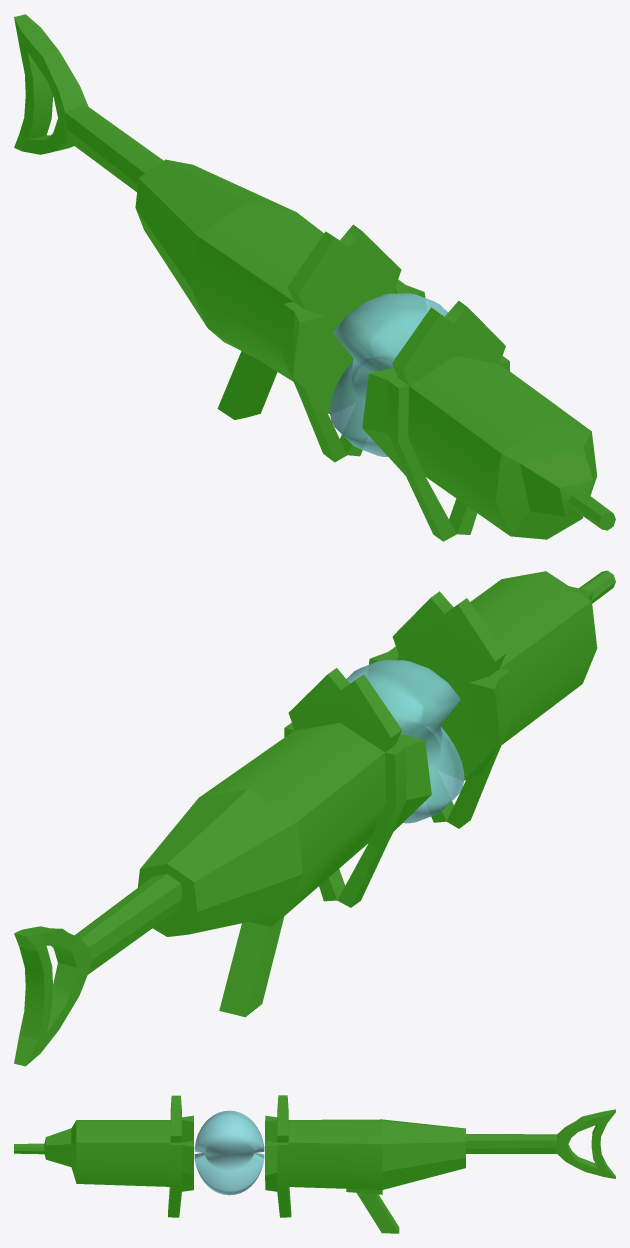
The model's file is gun.fbx.
3 views of the same model, one above another, from view 1: azimuth 30°, elevation 25°; view 2: azimuth 150°, elevation 25°; view 3: azimuth 270°, elevation 25° (orthographic). The views are drawn at different scales.
Parts seen in each view (by area): view 1: GunBody, GunCore; view 2: GunBody, GunCore; view 3: GunBody, GunCore.
Boxes of the visible parts, x1=… form: GunBody: x1=14, y1=14, x2=615, y2=541; GunCore: x1=330, y1=293, x2=447, y2=456; GunBody: x1=14, y1=570, x2=615, y2=1066; GunCore: x1=346, y1=660, x2=464, y2=823; GunBody: x1=14, y1=1095, x2=615, y2=1233; GunCore: x1=194, y1=1110, x2=264, y2=1195.
Size of the model in its own units: 2.81 by 4.99 by 20.66.
